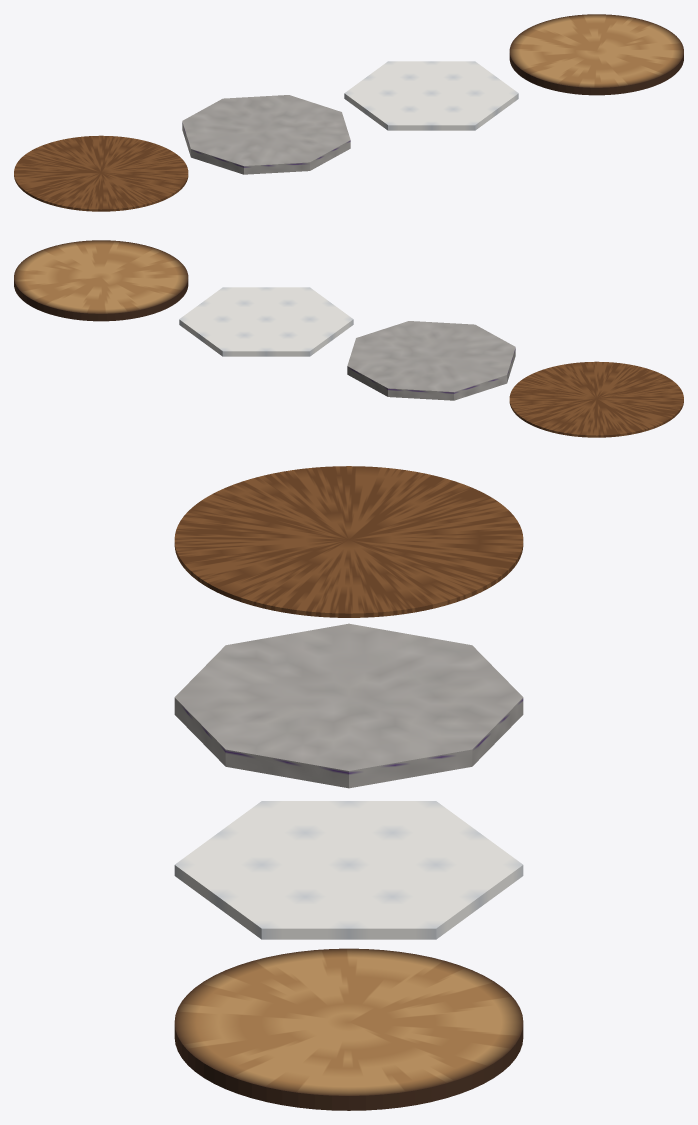
Rendered from mesas.glb.
3 views of the same model, one above another, from view 1: azimuth 30°, elevation 25°; view 2: azimuth 150°, elevation 25°; view 3: azimuth 270°, elevation 25° (orthographic). The views are drawn at different scales.
Parts seen in each view (by area): view 1: mesa_tronco_h0.6, mesa_piedra_h0.7, mesa_madera_h0.55, mesa_sal_h0.45; view 2: mesa_tronco_h0.6, mesa_piedra_h0.7, mesa_madera_h0.55, mesa_sal_h0.45; view 3: mesa_tronco_h0.6, mesa_piedra_h0.7, mesa_madera_h0.55, mesa_sal_h0.45.
Boxes of the visible parts, x1,y1,x2,y2 form: mesa_tronco_h0.6: [509, 14, 683, 95]; mesa_piedra_h0.7: [182, 95, 350, 174]; mesa_madera_h0.55: [14, 135, 188, 211]; mesa_sal_h0.45: [344, 61, 518, 130]; mesa_tronco_h0.6: [14, 240, 188, 321]; mesa_piedra_h0.7: [347, 321, 515, 400]; mesa_madera_h0.55: [509, 361, 683, 437]; mesa_sal_h0.45: [179, 287, 353, 356]; mesa_tronco_h0.6: [174, 948, 523, 1110]; mesa_piedra_h0.7: [174, 623, 523, 788]; mesa_madera_h0.55: [174, 466, 523, 617]; mesa_sal_h0.45: [174, 801, 523, 939].
Bounding box in the file's own units: 54.8 × 0.7 × 12.8.
